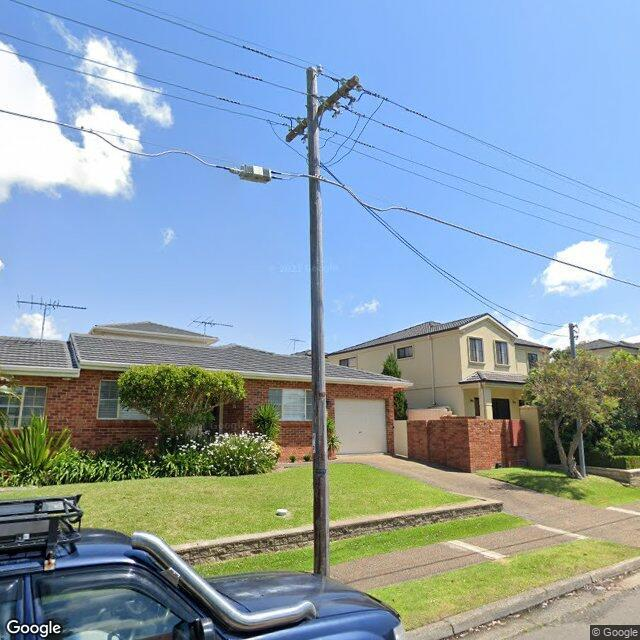crossarm: (286, 76, 359, 141)
steel-pole: (569, 322, 586, 476)
timber-pole: (305, 67, 329, 576)
